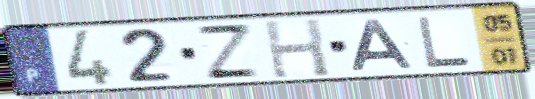2: (120, 26, 183, 86)
4: (63, 27, 118, 89)
A: (348, 17, 418, 73)
H: (260, 16, 333, 80)
L: (414, 15, 474, 70)
Z: (192, 23, 264, 81)
